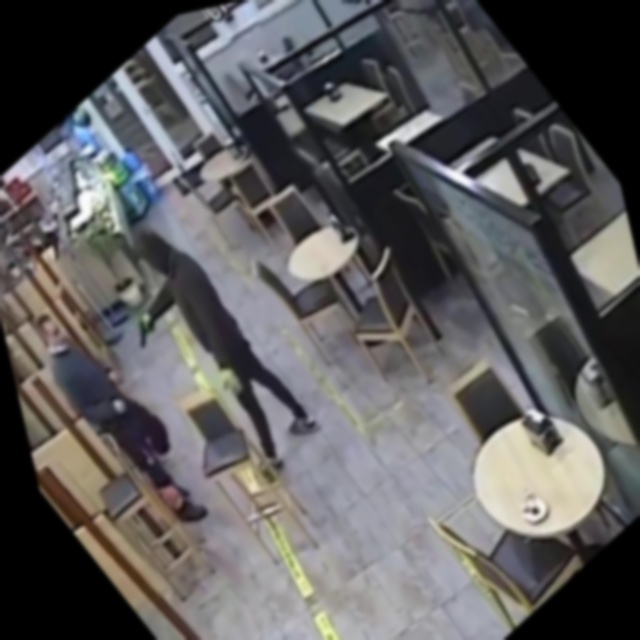gun: (115, 301, 177, 369)
